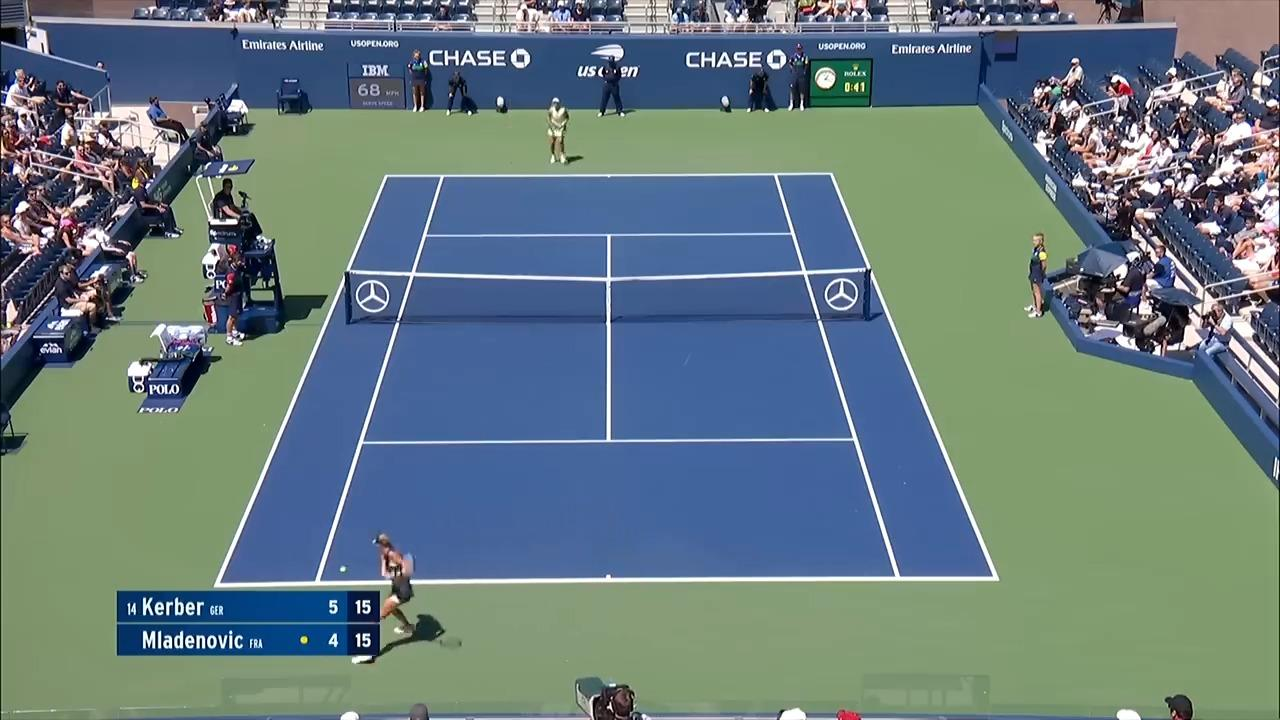tennis ball: (340, 565, 347, 572)
